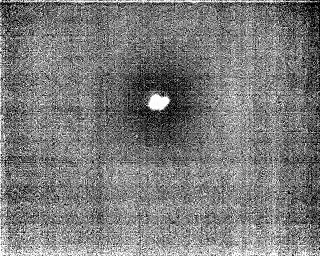AIRPLANE: (144, 90, 171, 113)
